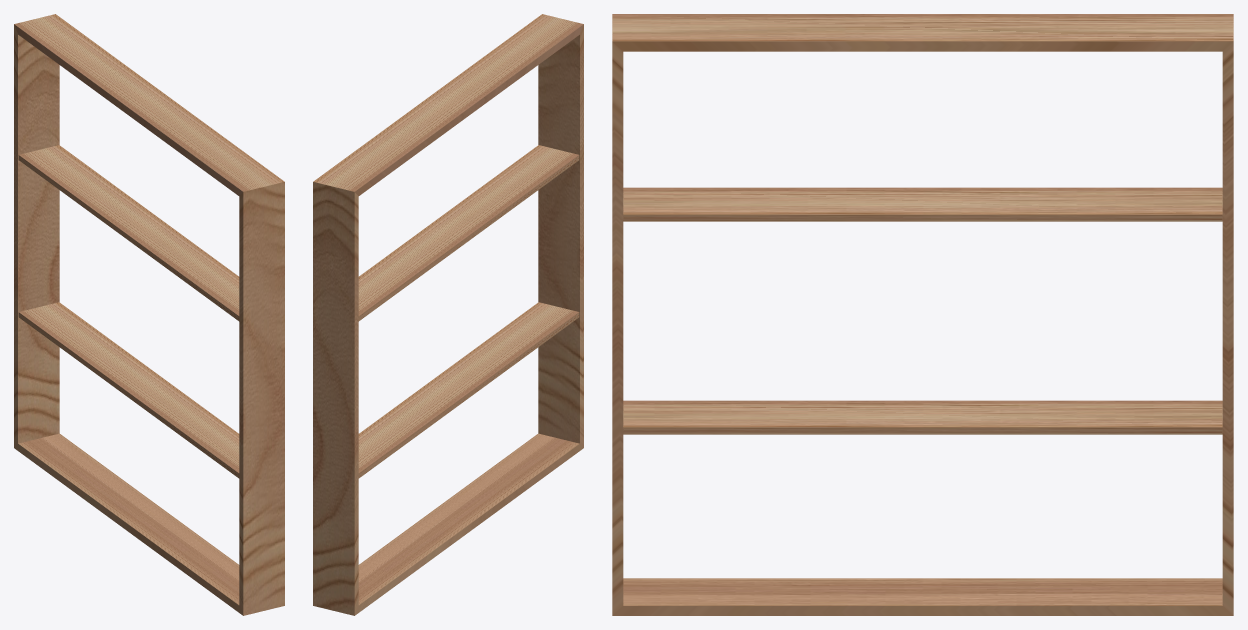
File: wall-shelf.glb
3 views of the same model, side by side, from view 1: azimuth 30°, elevation 25°; view 2: azimuth 150°, elevation 25°; view 3: azimuth 270°, elevation 25° (orthographic). The views are drawn at different scales.
Visible parts, largest first — view 1: Cube.007, Cube.009, Cube.008; view 2: Cube.007, Cube.009, Cube.008; view 3: Cube.007, Cube.008, Cube.009.
Boxes of the visible parts, bbox=[...] form: Cube.007: bbox=[14, 14, 284, 615]; Cube.009: bbox=[18, 302, 239, 478]; Cube.008: bbox=[18, 145, 239, 321]; Cube.007: bbox=[313, 14, 583, 615]; Cube.009: bbox=[358, 302, 579, 478]; Cube.008: bbox=[358, 145, 579, 321]; Cube.007: bbox=[612, 14, 1233, 615]; Cube.008: bbox=[623, 187, 1222, 221]; Cube.009: bbox=[623, 400, 1222, 434].
Size of the model in its own units: 0.1824 by 1.78 by 1.74.
1 material, 1 textured.
